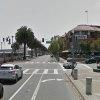Crosswalk: (25, 64, 69, 82)
